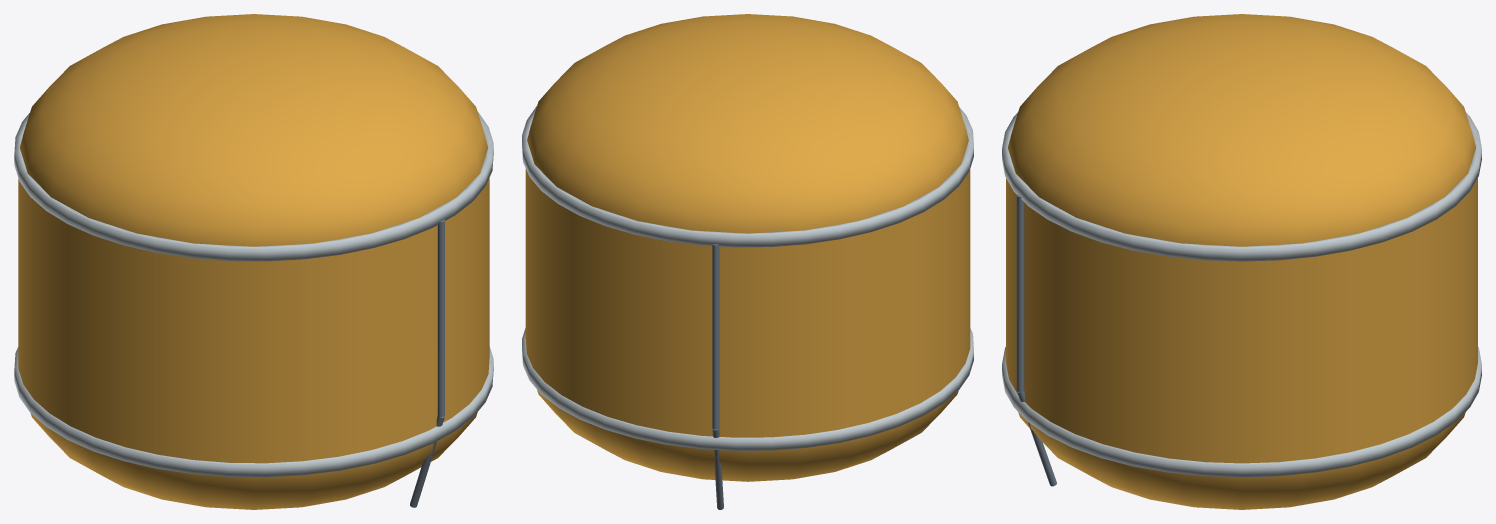
The model's file is titan_stage_2_aerozine50_vessel.glb.
The picture shows the model from 3 angles, left to right: view 1: azimuth 30°, elevation 25°; view 2: azimuth 150°, elevation 25°; view 3: azimuth 270°, elevation 25°; orthographic projection. The views are drawn at different scales.
Visible parts, largest first — view 1: titan_stage_2_aerozine50_vessel.mesh_Gold_thermal_insulation, titan_stage_2_aerozine50_vessel.mesh_Satin_aluminum, titan_stage_2_aerozine50_vessel.mesh_Machined_steel; view 2: titan_stage_2_aerozine50_vessel.mesh_Gold_thermal_insulation, titan_stage_2_aerozine50_vessel.mesh_Satin_aluminum, titan_stage_2_aerozine50_vessel.mesh_Machined_steel; view 3: titan_stage_2_aerozine50_vessel.mesh_Gold_thermal_insulation, titan_stage_2_aerozine50_vessel.mesh_Satin_aluminum, titan_stage_2_aerozine50_vessel.mesh_Machined_steel.
Boxes of the visible parts, x1=… form: titan_stage_2_aerozine50_vessel.mesh_Gold_thermal_insulation: x1=18, y1=14, x2=489, y2=509; titan_stage_2_aerozine50_vessel.mesh_Satin_aluminum: x1=14, y1=111, x2=493, y2=477; titan_stage_2_aerozine50_vessel.mesh_Machined_steel: x1=410, y1=219, x2=444, y2=507; titan_stage_2_aerozine50_vessel.mesh_Gold_thermal_insulation: x1=525, y1=14, x2=970, y2=481; titan_stage_2_aerozine50_vessel.mesh_Satin_aluminum: x1=522, y1=106, x2=973, y2=450; titan_stage_2_aerozine50_vessel.mesh_Machined_steel: x1=712, y1=244, x2=723, y2=509; titan_stage_2_aerozine50_vessel.mesh_Gold_thermal_insulation: x1=1006, y1=14, x2=1477, y2=509; titan_stage_2_aerozine50_vessel.mesh_Satin_aluminum: x1=1002, y1=112, x2=1481, y2=477; titan_stage_2_aerozine50_vessel.mesh_Machined_steel: x1=1016, y1=194, x2=1056, y2=486.
Bounding box in the file's own units: 2.81 × 2.68 × 2.81.
